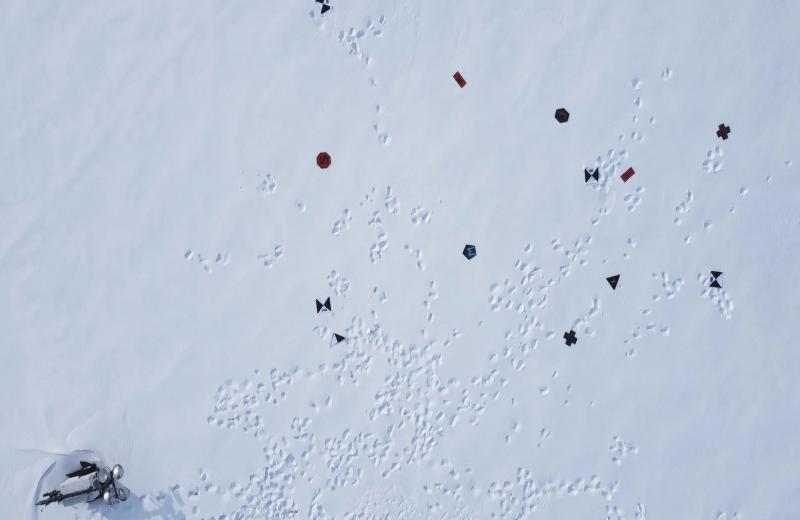Cross: (561, 330, 580, 349), (715, 122, 731, 142)
Hexagon: (554, 107, 570, 125)
Octagon: (314, 151, 332, 171)
Pentagon: (461, 243, 478, 262)
Rectangle: (452, 70, 468, 92), (619, 164, 636, 184)
Triangle: (604, 274, 623, 292)
